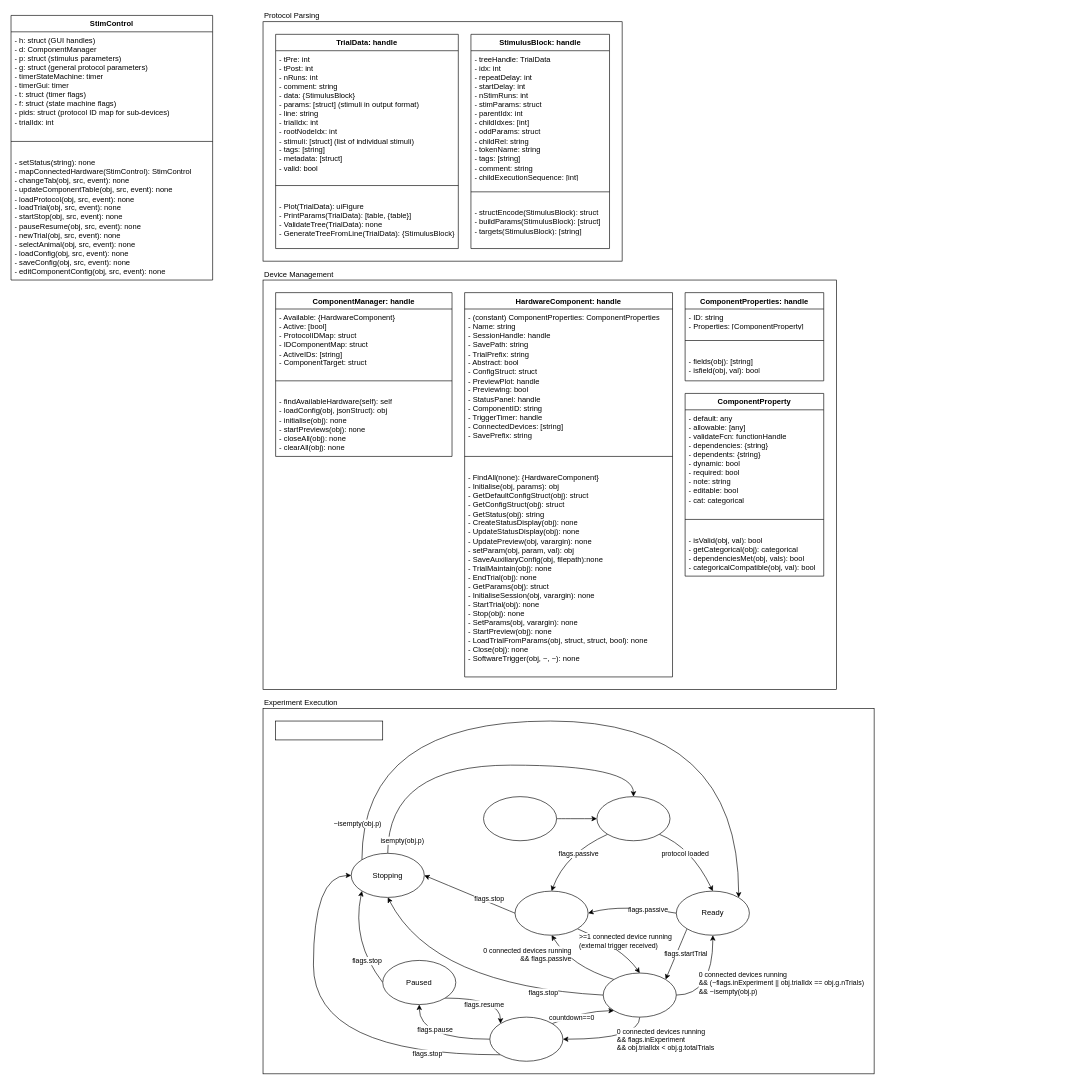
This 1080x1085 diagram has some shape labels left out. The shapes that lost their labels are listed below. From the top down, each one's centre as x and y in pixels, then its label:
point (329, 730): StateMachineTimer: timer
point (520, 818): Not Initialised
point (633, 818): No Protocol Loaded
point (551, 913): Awaiting Trigger
point (639, 994): Running
point (526, 1039): Inter-Trial
